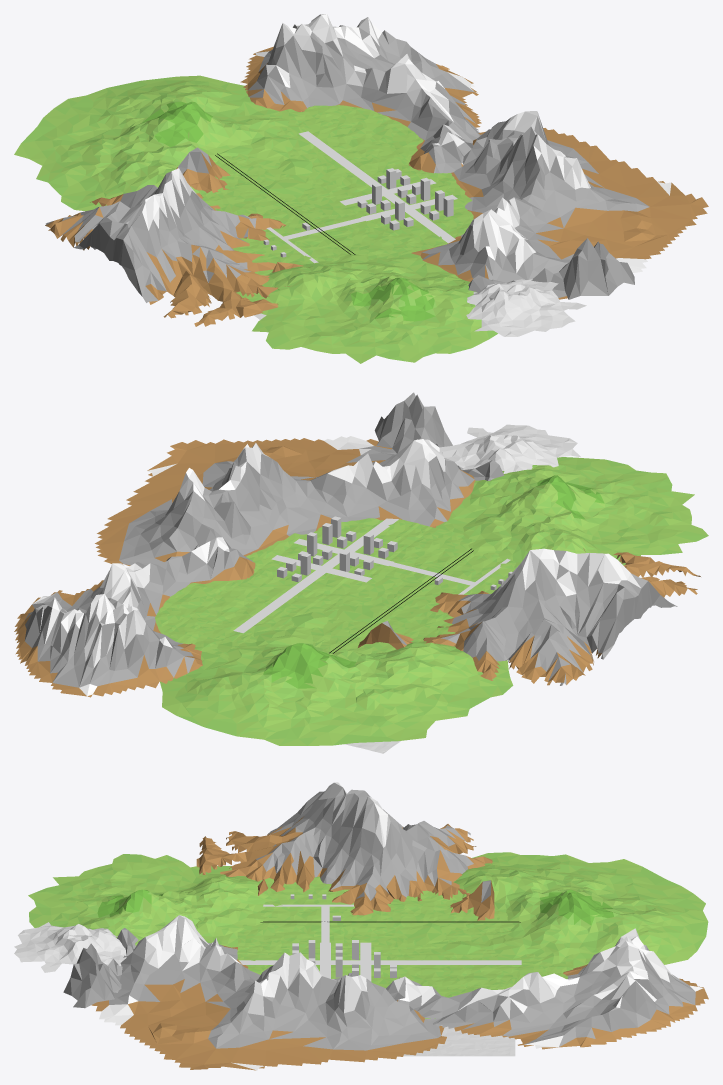
File: Terrain_V_3.fbx
The picture shows the model from 3 angles, top to bottom: view 1: azimuth 30°, elevation 25°; view 2: azimuth 150°, elevation 25°; view 3: azimuth 270°, elevation 25°; orthographic projection. The views are drawn at different scales.
Parts seen in each view (by area): view 1: Mountain_One, Hill_One, Main_Plain, Plane.004, Mountain_Five, Plane.003, Plane.008, Mountain_Ten.001, Plane.027; view 2: Mountain_One, Hill_One, Main_Plain, Plane.004, Mountain_Five, Plane.003, Plane.008, Mountain_Ten.001, Plane.027; view 3: Mountain_One, Hill_One, Plane.004, Mountain_Five, Main_Plain, Plane.003, Plane.008, Mountain_Ten.001, Plane.001, Plane.027.
Boxes of the visible parts, x1,y1,x2,y2 form: Mountain_One: [411, 111, 708, 299]; Hill_One: [14, 75, 315, 211]; Main_Plain: [199, 105, 473, 284]; Plane.004: [45, 147, 302, 326]; Mountain_Five: [240, 14, 481, 173]; Plane.003: [236, 253, 497, 363]; Plane.008: [466, 279, 586, 336]; Mountain_Ten.001: [468, 238, 634, 299]; Plane.027: [299, 131, 455, 243]; Mountain_One: [95, 436, 475, 565]; Hill_One: [159, 605, 513, 745]; Main_Plain: [155, 518, 515, 657]; Plane.004: [358, 548, 700, 685]; Mountain_Five: [14, 537, 255, 697]; Plane.003: [435, 457, 708, 568]; Plane.008: [439, 424, 580, 473]; Mountain_Ten.001: [374, 392, 504, 480]; Plane.027: [233, 518, 398, 633]; Mountain_One: [91, 915, 446, 1070]; Hill_One: [407, 852, 708, 968]; Plane.004: [196, 782, 494, 920]; Mountain_Five: [386, 928, 708, 1049]; Main_Plain: [237, 876, 573, 1018]; Plane.003: [28, 854, 277, 947]; Plane.008: [14, 922, 126, 972]; Mountain_Ten.001: [63, 928, 138, 1008]; Plane.001: [403, 1025, 515, 1056]; Plane.027: [239, 960, 521, 964].
Bounding box in the file's own units: 4342 × 1264 × 5296.
